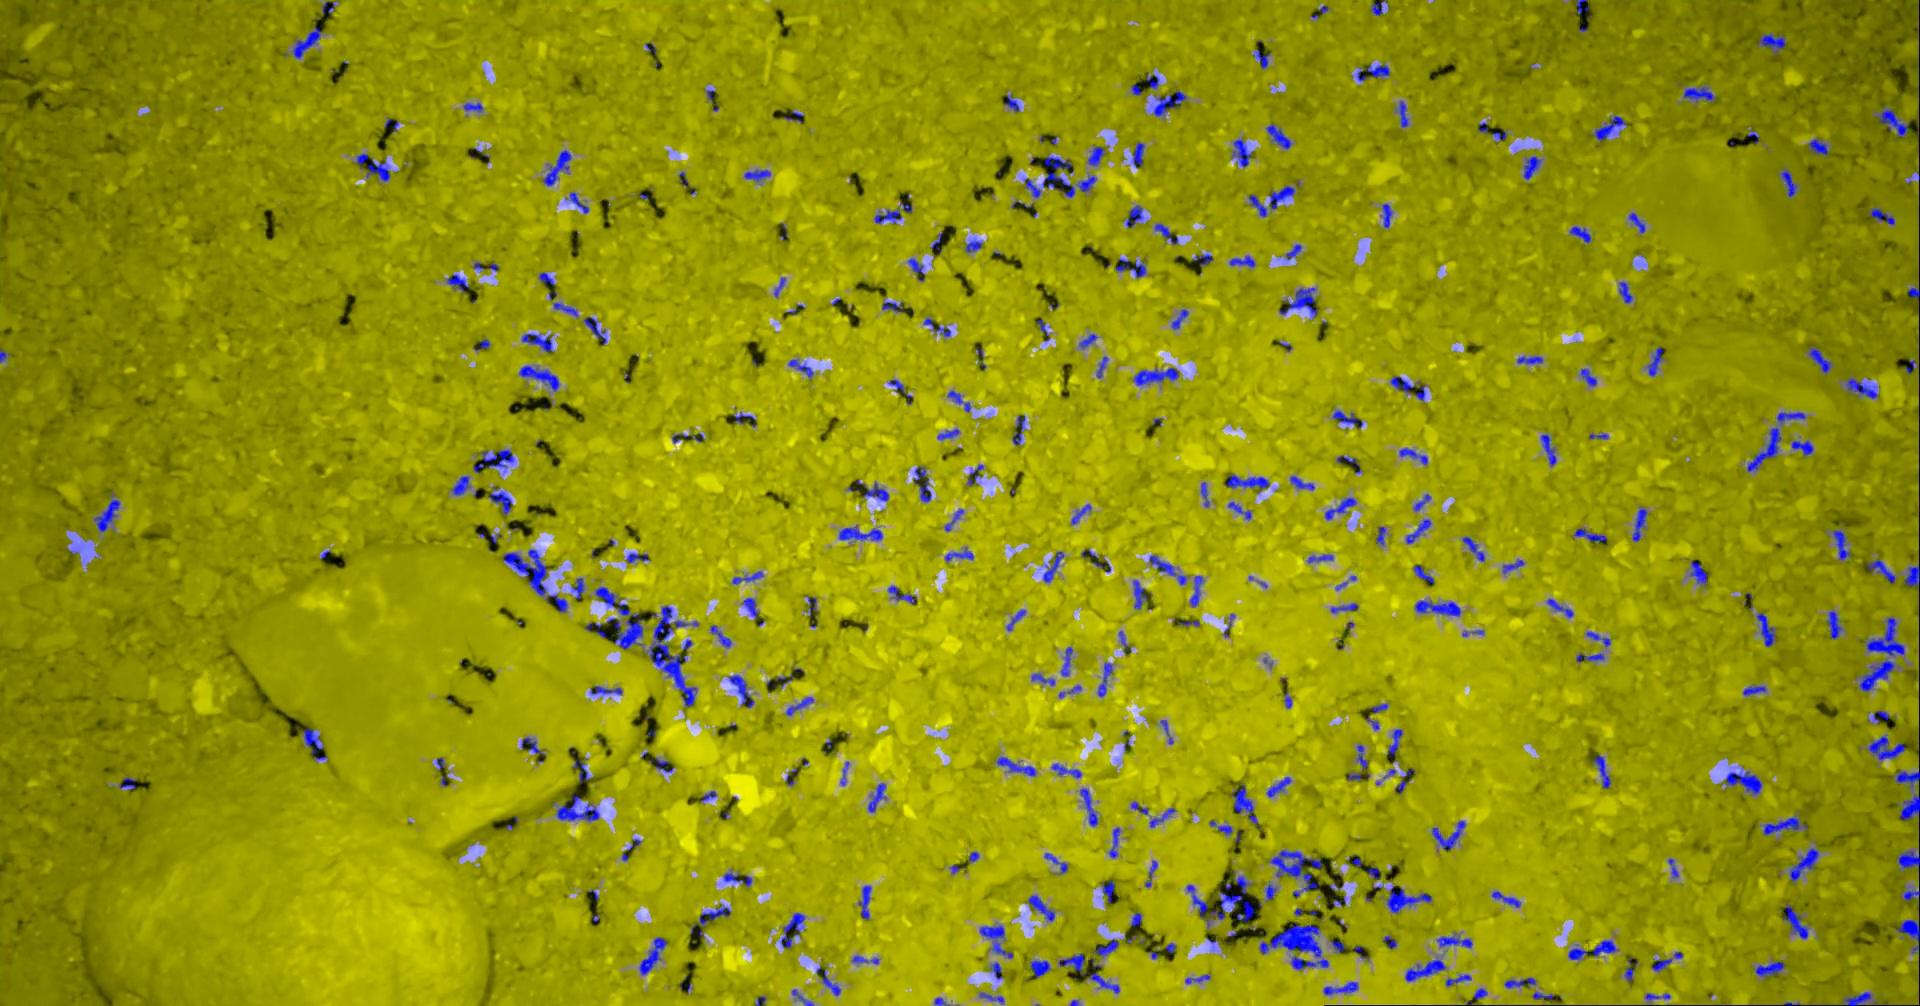ant: (502, 549, 568, 611), (1186, 871, 1255, 926), (594, 586, 643, 648), (1058, 953, 1119, 993), (1270, 848, 1321, 897), (1043, 155, 1096, 197), (1746, 427, 1782, 471), (1864, 616, 1903, 655), (1248, 185, 1294, 216), (1385, 885, 1431, 912), (556, 793, 599, 821), (1279, 287, 1318, 316), (1859, 659, 1895, 691), (979, 925, 1012, 958), (518, 365, 559, 391), (542, 149, 571, 185), (1149, 555, 1186, 584), (1232, 784, 1257, 826), (93, 492, 119, 531), (1431, 821, 1465, 851), (639, 937, 667, 974), (472, 448, 514, 473), (1876, 105, 1909, 136), (1789, 847, 1818, 882), (1867, 734, 1905, 760), (292, 25, 320, 58), (356, 152, 389, 180), (1567, 940, 1615, 959), (1724, 770, 1761, 794), (1404, 959, 1445, 981), (780, 912, 804, 948), (1763, 815, 1807, 835), (1153, 90, 1186, 116), (1592, 116, 1625, 141), (728, 674, 753, 708), (1225, 473, 1269, 492), (1133, 367, 1178, 385), (302, 727, 326, 760), (1783, 904, 1807, 937), (1895, 920, 1919, 951), (1415, 600, 1460, 616), (996, 756, 1035, 775), (1324, 497, 1356, 520), (698, 903, 730, 926), (1865, 559, 1895, 583), (1209, 819, 1239, 842), (1265, 123, 1291, 149), (838, 525, 883, 540), (1079, 788, 1097, 826), (1027, 895, 1054, 921), (488, 486, 512, 514), (817, 967, 841, 995), (1756, 612, 1775, 647), (1591, 754, 1610, 788), (1043, 551, 1063, 582), (1404, 518, 1430, 542), (1114, 258, 1145, 277), (521, 333, 552, 352), (1845, 379, 1877, 398), (583, 316, 604, 344), (1356, 64, 1389, 81), (521, 737, 545, 761), (1462, 536, 1484, 561), (1808, 347, 1830, 373), (1232, 138, 1252, 166), (913, 466, 930, 500), (867, 782, 886, 812), (1573, 527, 1606, 544), (1332, 410, 1363, 428), (1832, 528, 1850, 559), (888, 586, 916, 605), (1545, 598, 1573, 617), (1097, 662, 1112, 696), (946, 390, 970, 412), (1898, 794, 1919, 819), (1149, 807, 1175, 827), (923, 318, 950, 337), (786, 696, 813, 715), (1683, 86, 1716, 102), (1647, 345, 1663, 376), (1632, 508, 1647, 541), (1757, 32, 1785, 50), (1478, 122, 1506, 140), (565, 192, 588, 213), (1266, 776, 1290, 796), (1043, 852, 1067, 873), (1540, 433, 1556, 465), (1689, 560, 1708, 586), (1491, 890, 1520, 907), (1323, 981, 1357, 995), (710, 625, 731, 647), (1154, 224, 1177, 244), (1399, 447, 1427, 464), (857, 885, 871, 918), (863, 481, 888, 500), (1227, 500, 1251, 520), (1869, 206, 1895, 224), (1336, 455, 1361, 473), (1436, 935, 1472, 948), (1755, 960, 1784, 976), (1897, 850, 1919, 870), (943, 508, 963, 531), (571, 760, 590, 782), (789, 359, 813, 377), (1895, 770, 1919, 788), (1093, 937, 1117, 955), (1780, 169, 1796, 197), (1189, 575, 1203, 606), (1131, 580, 1147, 608), (1070, 504, 1091, 525), (1006, 608, 1025, 630), (621, 838, 640, 860), (872, 210, 902, 224), (943, 547, 973, 561), (1051, 763, 1081, 777), (1523, 156, 1540, 179), (1125, 205, 1143, 227), (907, 258, 924, 281), (446, 274, 469, 292), (1826, 611, 1841, 638), (1385, 728, 1401, 754), (1390, 376, 1415, 392), (1397, 768, 1413, 793), (764, 673, 792, 687), (723, 873, 750, 887), (1843, 991, 1870, 1005), (1011, 414, 1023, 445), (1289, 475, 1314, 490), (1413, 564, 1434, 583), (731, 572, 762, 584), (648, 757, 673, 772), (1807, 138, 1829, 156), (1171, 307, 1189, 329), (1586, 631, 1610, 647), (451, 475, 469, 495), (742, 597, 759, 617), (1906, 286, 1919, 314), (584, 622, 610, 636), (1790, 439, 1813, 455), (1396, 100, 1408, 127), (1144, 860, 1157, 887), (552, 302, 577, 316), (731, 412, 756, 426), (1252, 48, 1269, 69), (1628, 212, 1644, 232), (1570, 226, 1590, 243), (1030, 960, 1050, 977), (968, 464, 983, 485), (1903, 567, 1919, 588), (791, 989, 813, 1005), (1131, 141, 1144, 166), (670, 432, 702, 442), (1503, 977, 1535, 987), (1777, 412, 1804, 423), (1060, 647, 1072, 674), (1087, 146, 1103, 165), (1023, 178, 1040, 197), (1109, 827, 1119, 857), (1624, 956, 1637, 981), (979, 992, 1003, 1005), (743, 169, 770, 180), (1618, 281, 1632, 302), (1580, 368, 1596, 386), (1413, 493, 1430, 511), (1229, 255, 1255, 267), (1078, 333, 1097, 348), (571, 577, 584, 600), (1502, 559, 1523, 573), (1575, 652, 1603, 662), (1356, 744, 1368, 768), (1102, 880, 1115, 902), (590, 685, 621, 694), (1031, 673, 1054, 685), (1516, 354, 1542, 365), (1651, 958, 1671, 970), (1445, 974, 1470, 984), (1285, 244, 1302, 259), (1004, 93, 1018, 111), (1330, 603, 1357, 612), (1096, 356, 1107, 377), (937, 428, 959, 439), (1382, 203, 1392, 227), (1742, 685, 1766, 695), (783, 111, 803, 123), (1192, 253, 1211, 265), (1183, 974, 1210, 983), (1371, 0, 1387, 15), (1130, 801, 1148, 814), (1200, 481, 1209, 506), (888, 379, 903, 392), (965, 239, 982, 251), (472, 338, 489, 351), (1902, 888, 1919, 901), (881, 301, 902, 311), (806, 594, 817, 615), (1307, 554, 1333, 561), (1575, 0, 1589, 14), (538, 272, 554, 285), (852, 955, 877, 963), (626, 553, 648, 561), (1873, 710, 1890, 721), (118, 777, 135, 789), (1375, 526, 1385, 544), (1145, 74, 1158, 88), (1382, 935, 1396, 948), (1531, 991, 1554, 998), (463, 102, 483, 111), (1265, 883, 1275, 899), (990, 962, 1001, 978), (321, 0, 334, 13), (1644, 992, 1670, 998), (1130, 912, 1142, 926), (1330, 940, 1343, 951), (1366, 868, 1379, 878)
